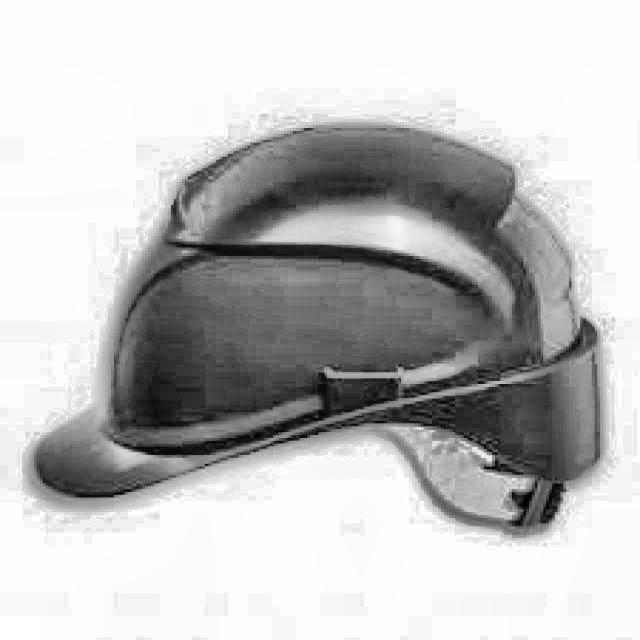Helmet: (20, 110, 608, 561)
